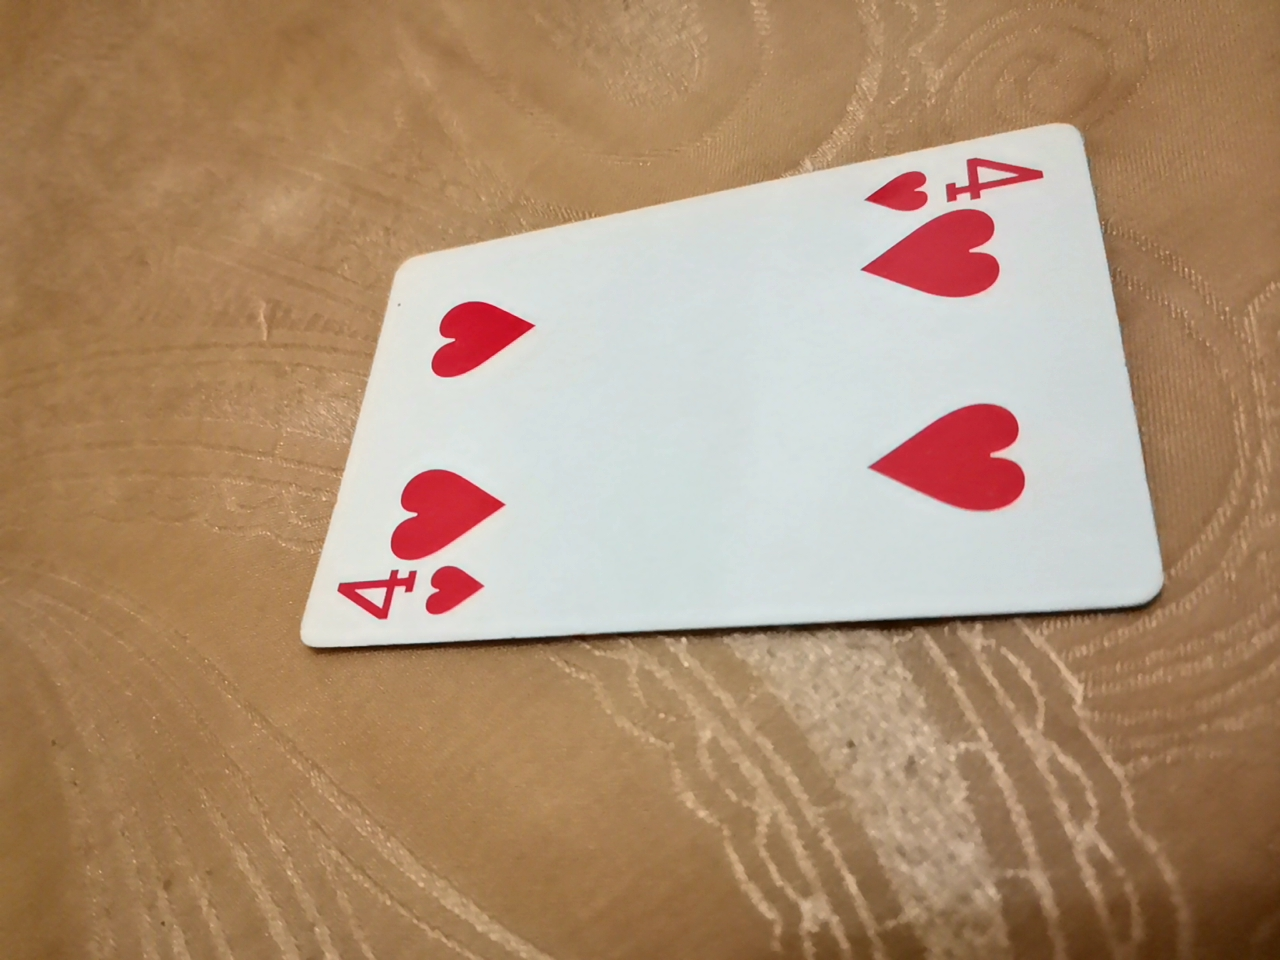hx 4: (302, 115, 1150, 661)
